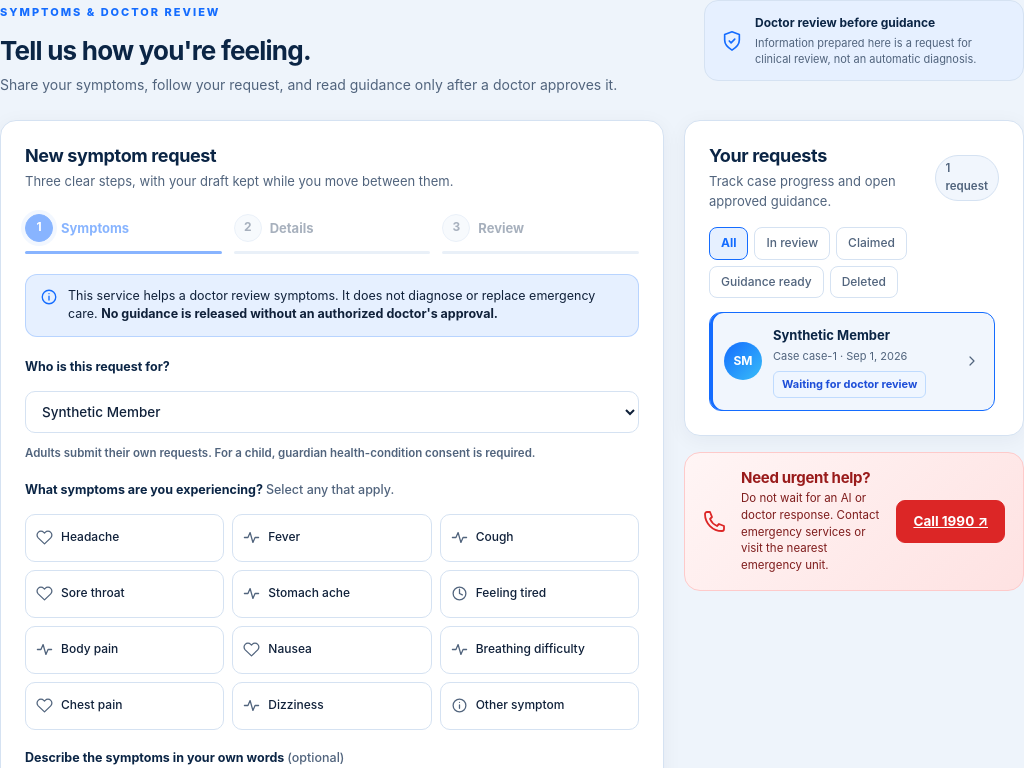
Scenario: TriagePage › keeps the current progress visible while a background refresh is in flight
This screenshot has width=1024, height=768.
Click the button that starts with "Synthetic Member" at [852, 361], box x1=709 y1=312 x2=995 y2=410
Wait 3000 ms
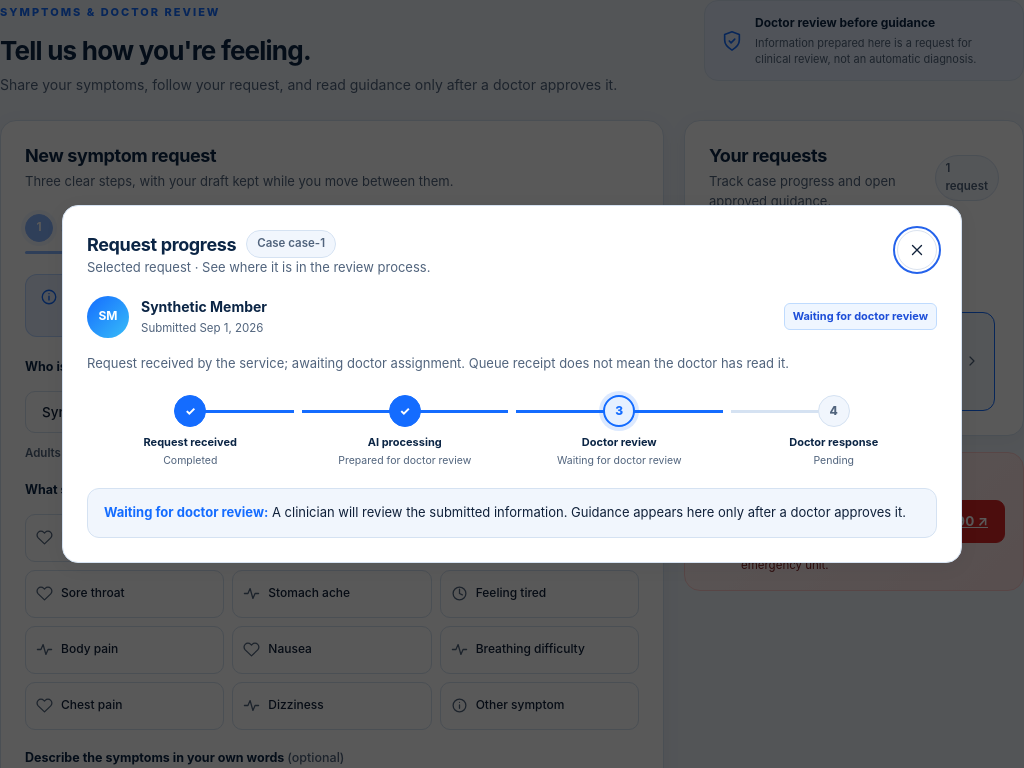
Now the text "Doctor review" is shown, box x1=582 y1=435 x2=657 y2=449
